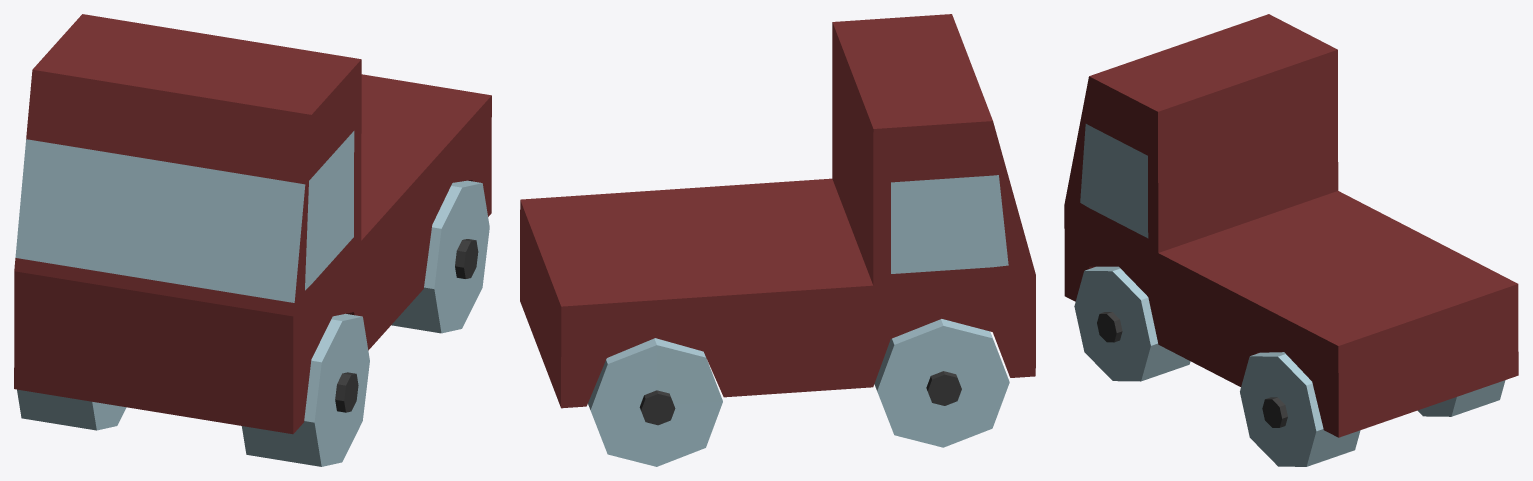
Rendered from Toy_car_1.fbx.
The picture shows the model from 3 angles, left to right: view 1: azimuth 30°, elevation 25°; view 2: azimuth 150°, elevation 25°; view 3: azimuth 270°, elevation 25°; orthographic projection. The views are drawn at different scales.
Parts seen in each view (by area): view 1: Toy_car_1; view 2: Toy_car_1; view 3: Toy_car_1.
Boxes of the visible parts, x1,y1,x2,y2 form: Toy_car_1: [14, 14, 491, 466]; Toy_car_1: [520, 14, 1035, 466]; Toy_car_1: [1064, 14, 1518, 466].
Bounding box in the file's own units: 46.46 × 43.69 × 30.56.
